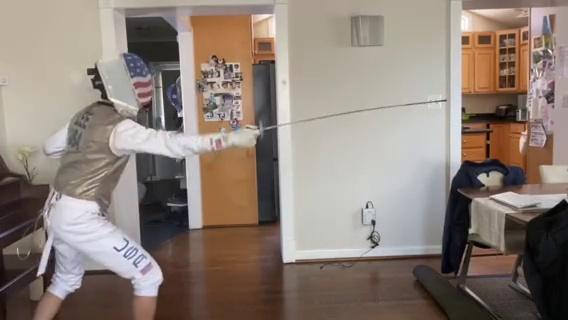blade-guard: (250, 123, 267, 142)
blade-tip: (404, 99, 448, 109)
fencing-blade: (243, 99, 453, 145)
